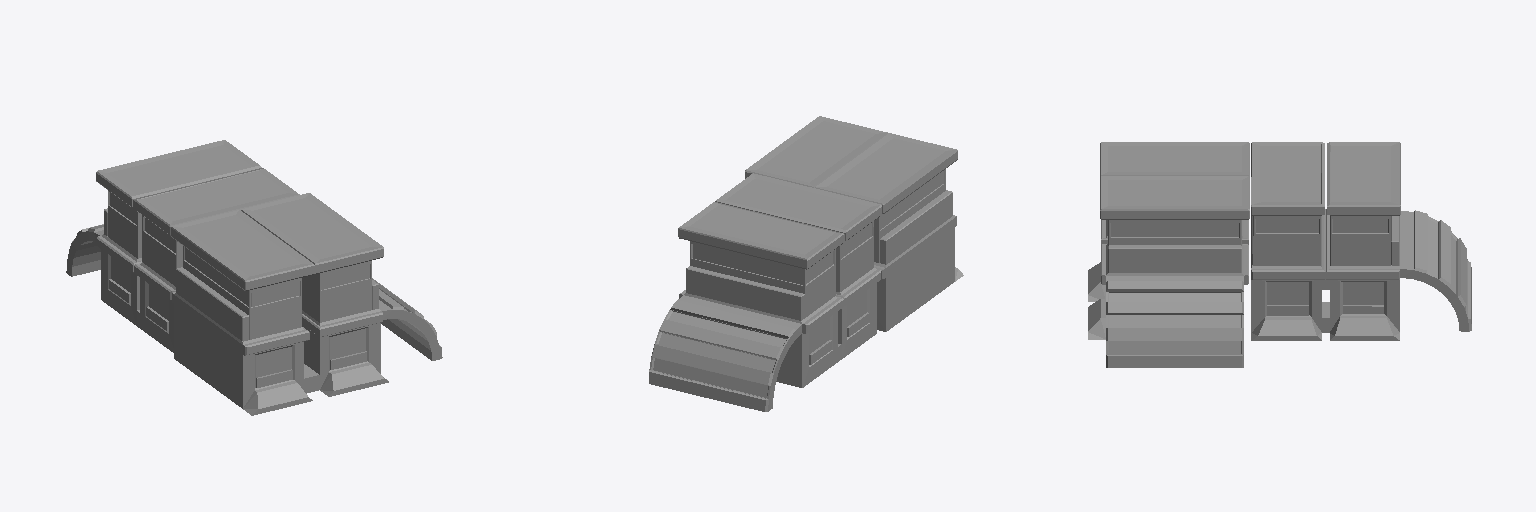
File: school.obj
3 renders of one model, left to right at view 1: azimuth 30°, elevation 25°; view 2: azimuth 150°, elevation 25°; view 3: azimuth 270°, elevation 25°, orthographic.
Parts seen in each view (by area): view 1: Cube; view 2: Cube; view 3: Cube.
Part boxes in pixels (left/top/right/bottom): Cube: left=66, top=140, right=442, bottom=415; Cube: left=649, top=116, right=963, bottom=411; Cube: left=1088, top=142, right=1471, bottom=367.
Bounding box in the file's own units: 139 × 86.03 × 230.